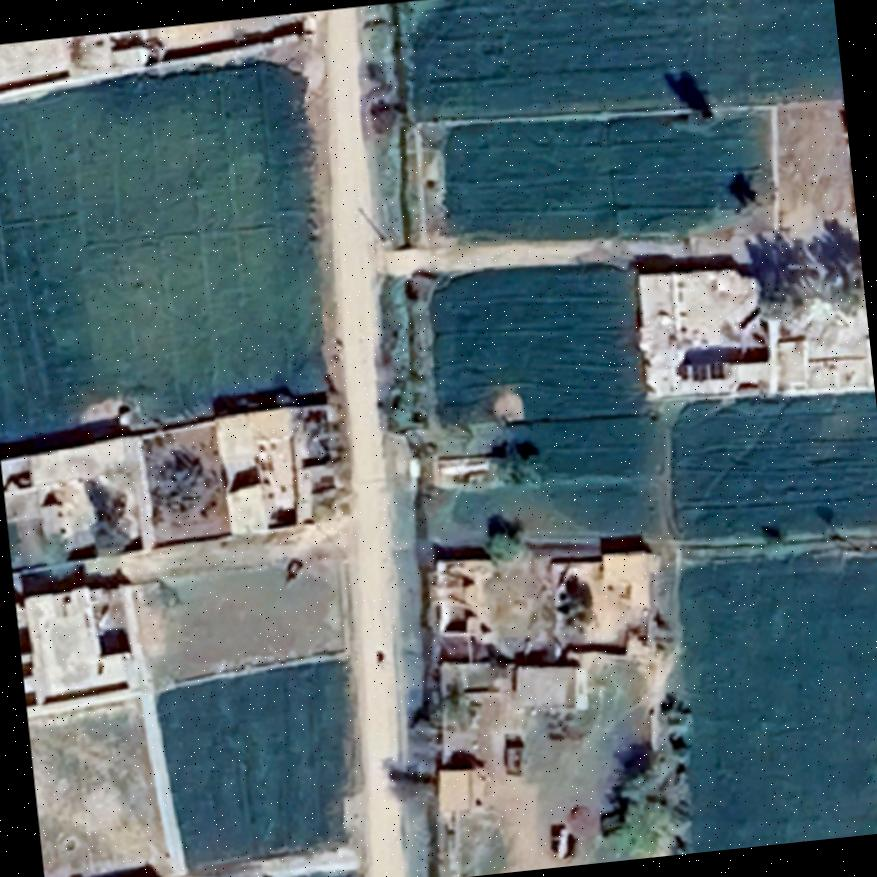Solarpanel: (678, 354, 733, 386)
